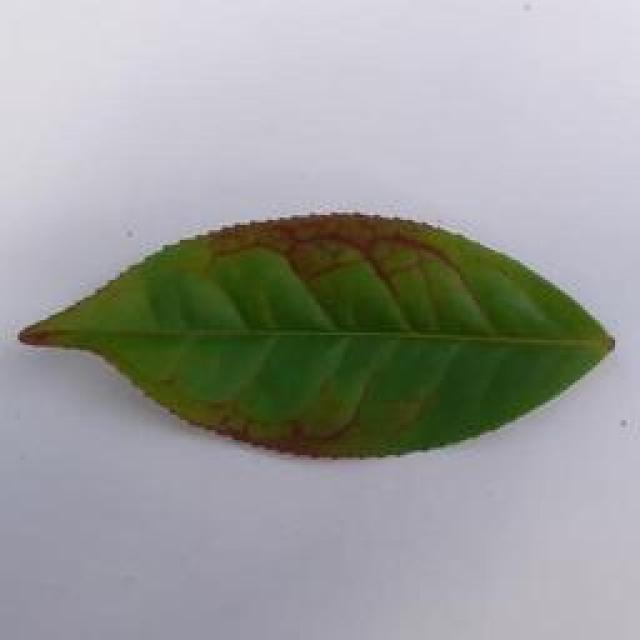Red Leaf Spot: (18, 191, 640, 470)
